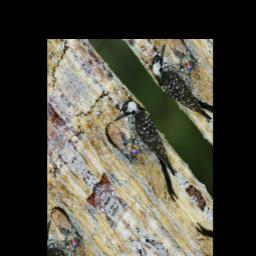Woodpecker: (106, 92, 196, 210)
